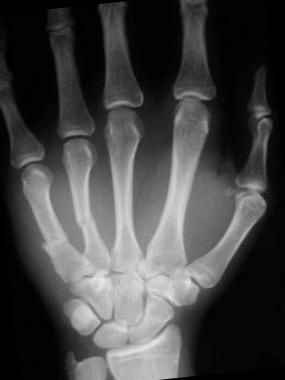fracture: (38, 230, 72, 250), (75, 211, 98, 231)
